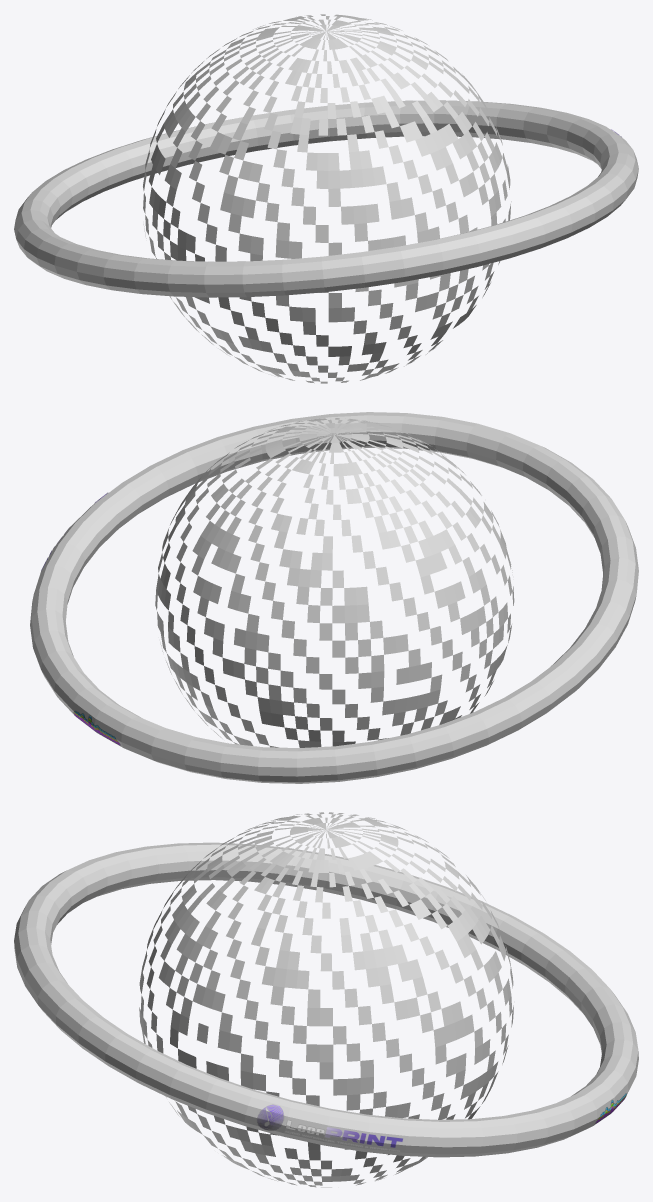
The model's file is sphereV4.3.1.glb.
3 views of the same model, one above another, from view 1: azimuth 30°, elevation 25°; view 2: azimuth 150°, elevation 25°; view 3: azimuth 270°, elevation 25° (orthographic). The views are drawn at different scales.
Visible parts, largest first — view 1: Sphere, Torus; view 2: Torus, Sphere; view 3: Torus, Sphere, loopPrint-header.
Part boxes in pixels (bbox=[...]): Sphere: bbox=[143, 14, 511, 383]; Torus: bbox=[14, 100, 638, 297]; Torus: bbox=[30, 412, 638, 783]; Sphere: bbox=[155, 418, 514, 747]; Torus: bbox=[14, 842, 638, 1157]; Sphere: bbox=[139, 812, 513, 1187]; loopPrint-header: bbox=[257, 1104, 403, 1151].
Size of the model in its own units: 17.65 by 10 by 16.64.
Materials: 2 (2 with a texture image).
